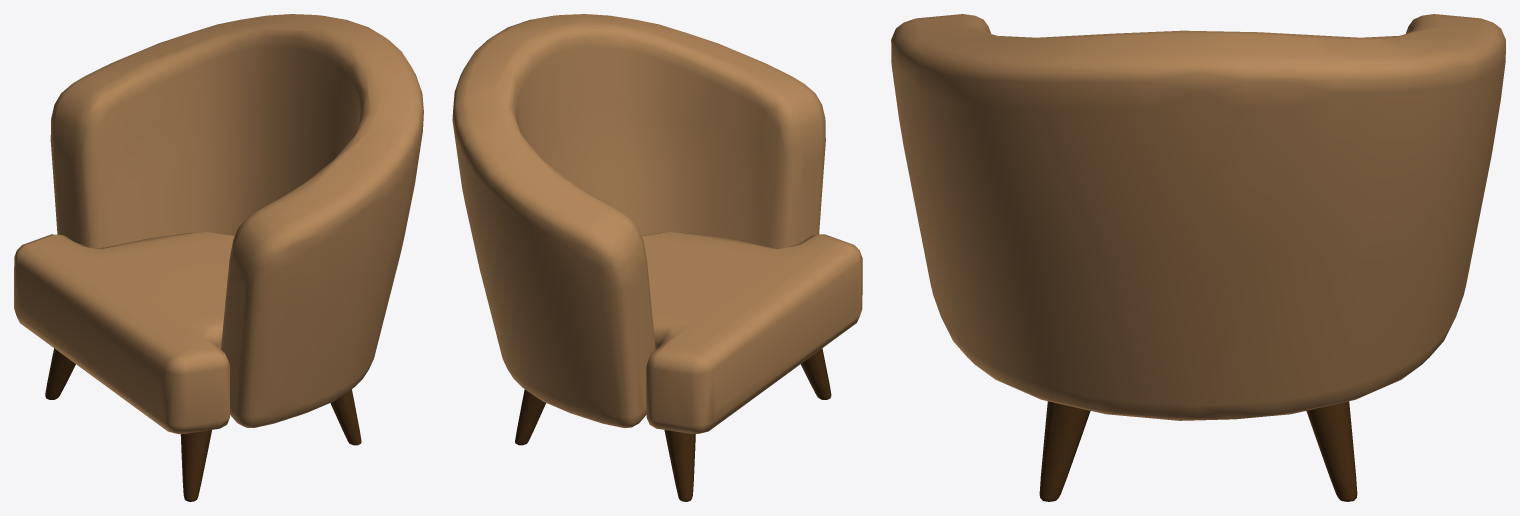
File: armchair_07_brown.fbx
3 views of the same model, side by side, from view 1: azimuth 30°, elevation 25°; view 2: azimuth 150°, elevation 25°; view 3: azimuth 270°, elevation 25° (orthographic). The views are drawn at different scales.
Parts seen in each view (by area): view 1: armchair_07_brown; view 2: armchair_07_brown; view 3: armchair_07_brown.
Boxes of the visible parts, x1=… form: armchair_07_brown: x1=14, y1=14, x2=423, y2=501; armchair_07_brown: x1=452, y1=14, x2=862, y2=501; armchair_07_brown: x1=891, y1=14, x2=1505, y2=501.
Bounding box in the file's own units: 102 × 114 × 128.
Materials: 2 (2 with a texture image).
